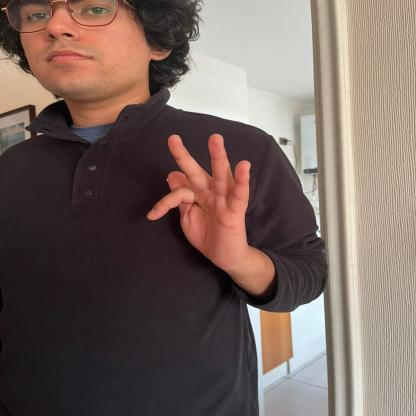F: (146, 128, 254, 274)
